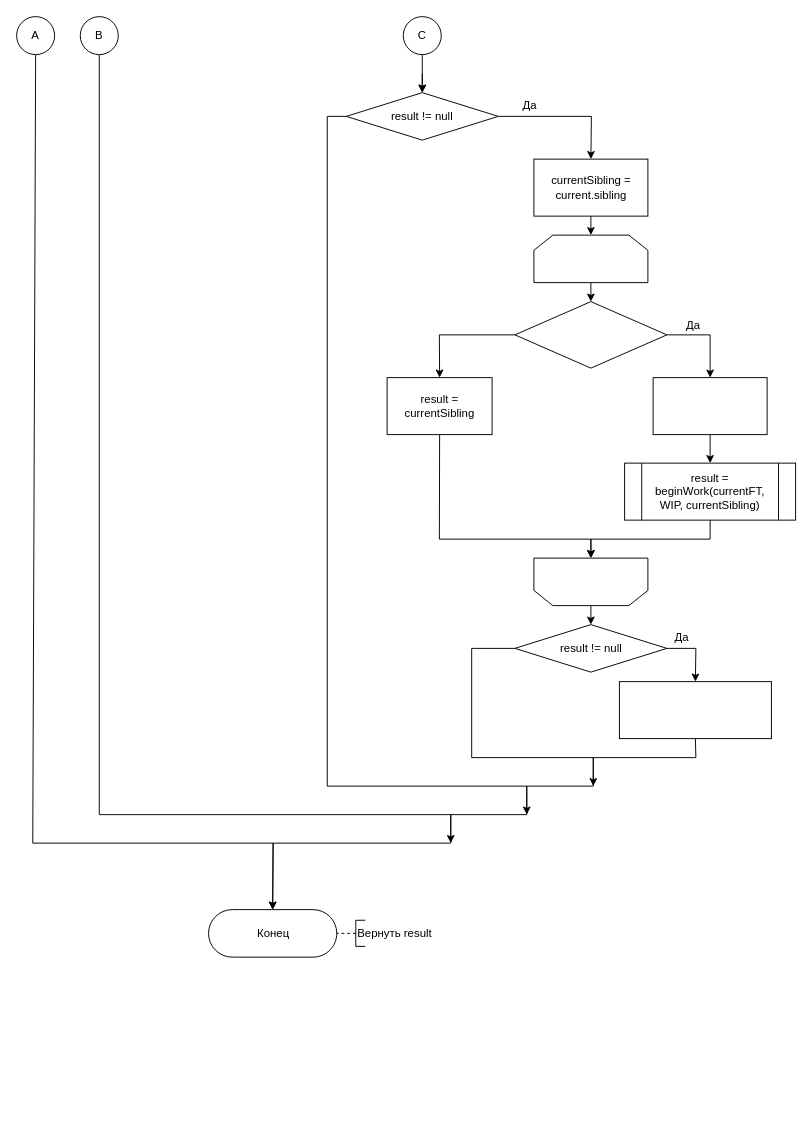
Some shapes in this 812 by 1135 pixel diagram are drawn without their labels. Each missing label, with the centre of its shape:
currentSibling = currentSibling .sibling: the point at 590,581
currentSibling.change ?: the point at 590,334
currentSibling.tag = 1: the point at 709,406
result = current: the point at 694,710
Пока currentSibling != null && !result: the point at 590,258
